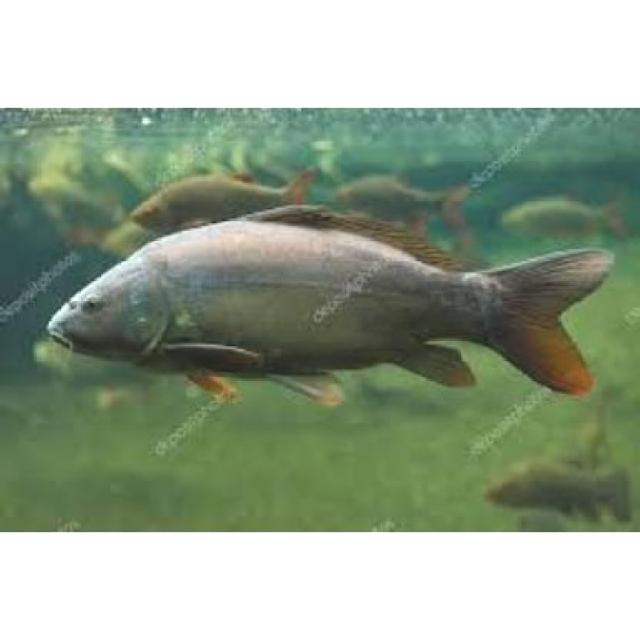ikan-mas: (44, 206, 610, 400)
